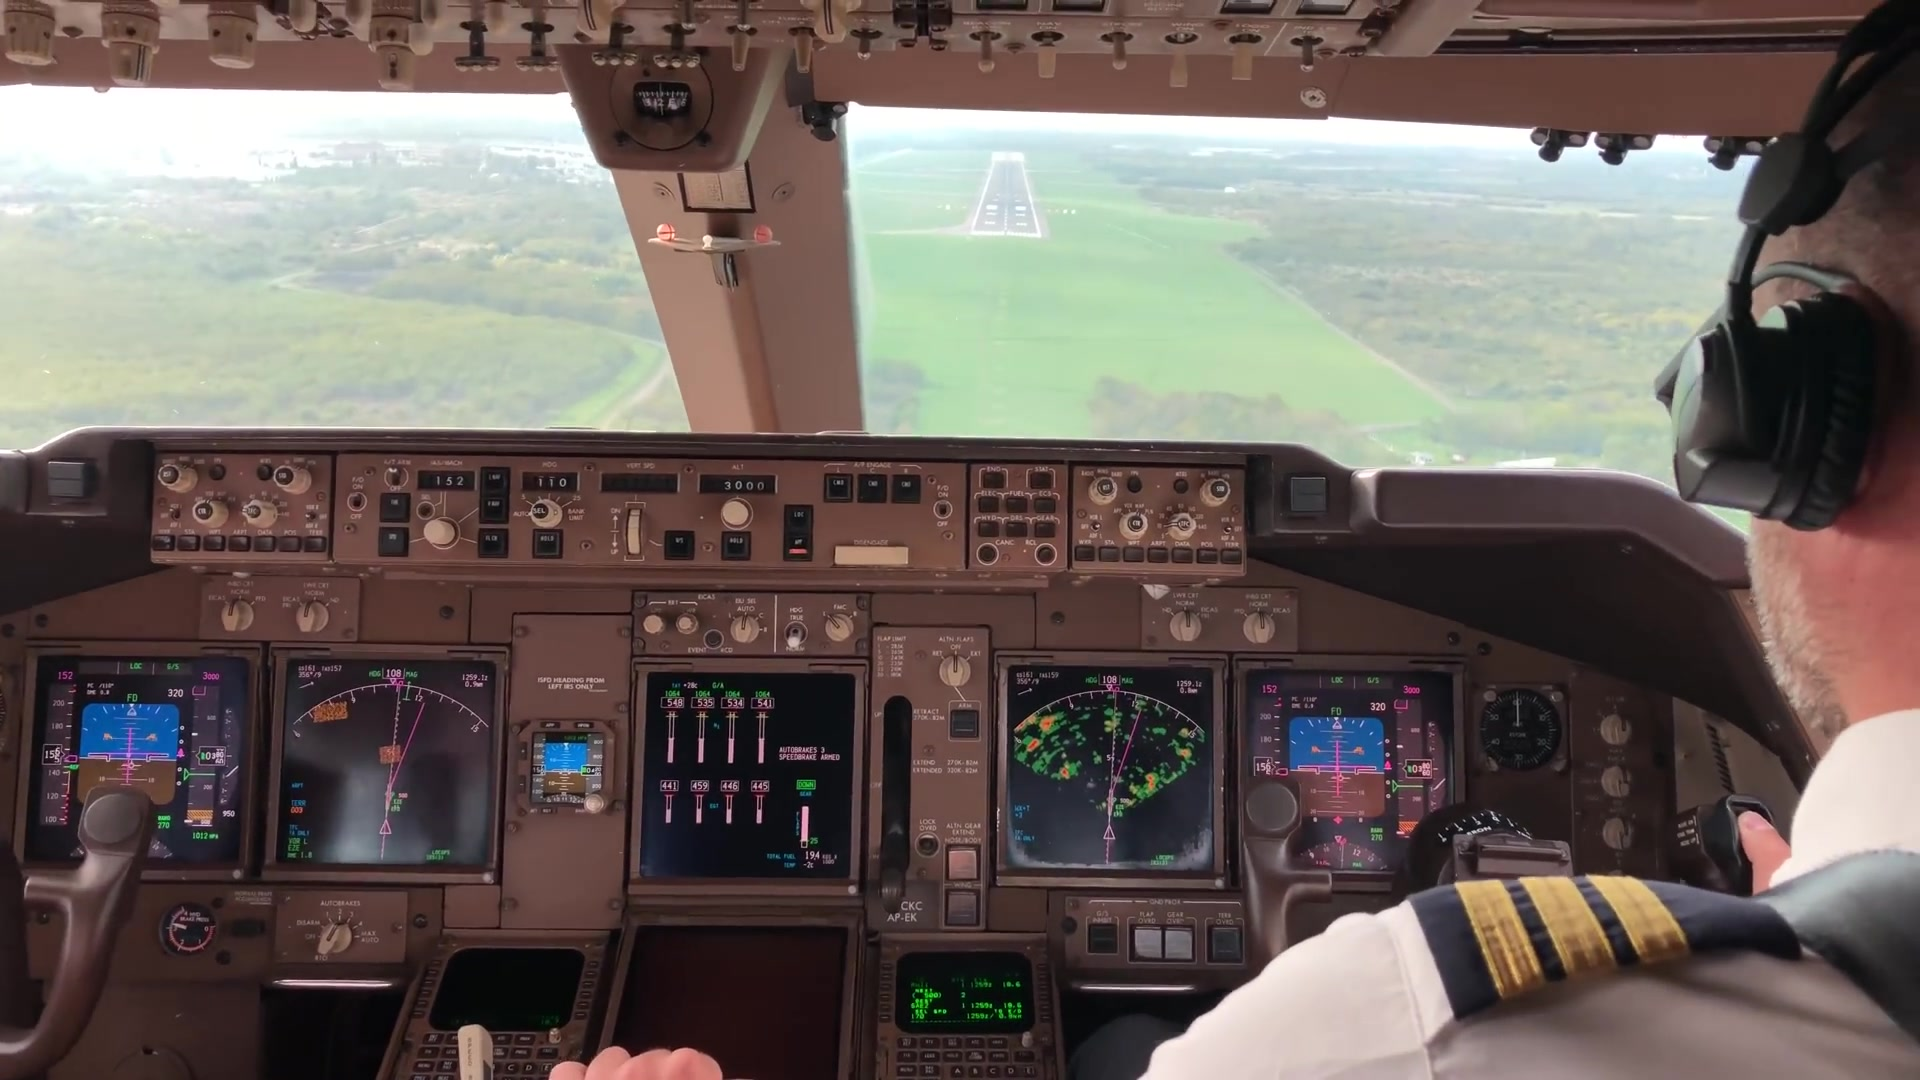entrance: (973, 229, 1036, 236)
runway: (975, 157, 1046, 237)
